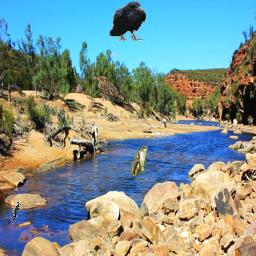Crow: (109, 1, 146, 41)
Cuckoo: (131, 146, 148, 176)
Sparrow: (93, 75, 133, 104)
Woodpecker: (11, 201, 21, 227)
